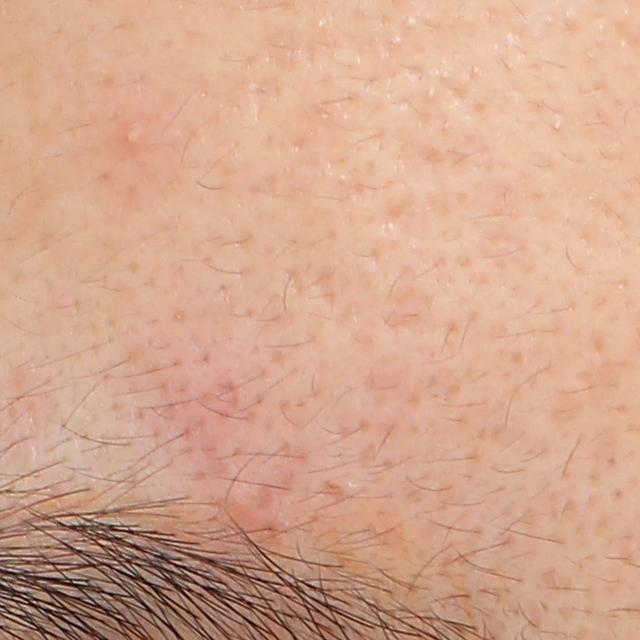atrophic_scar: (385, 288, 435, 330)
